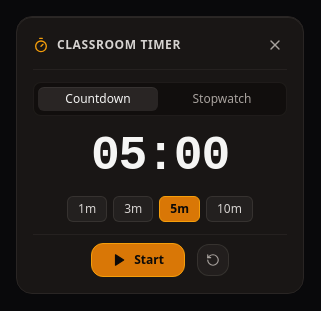
Test: ClassroomTimerWidget Component (Synchronized Classroom Timer & Stopwatch HUD) › selects countdown presets (1m, 3m, 5m)
What coordinates should you click on to do the following:
click the button "1m"
I would click on:
 (87, 209)
Its box is [67,196,107,222].
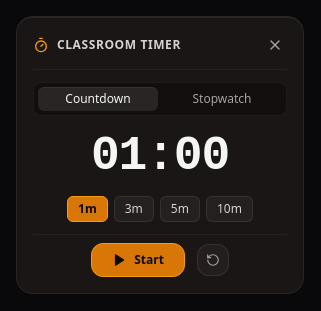
expect the text "01:00" is shown: met, box [91,129,229,183]
What coordinates should you click on to do the following:
click the button "3m"
I would click on:
 (134, 209)
Its box is [114,196,154,222].
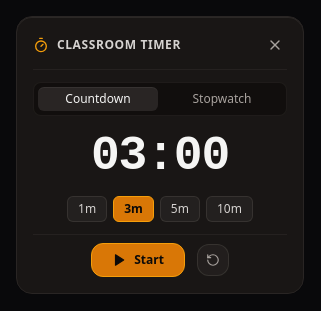
expect the text "03:00" is shown: met, box [91,129,229,183]
